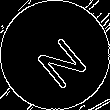N_NW: (23, 23, 87, 87)
